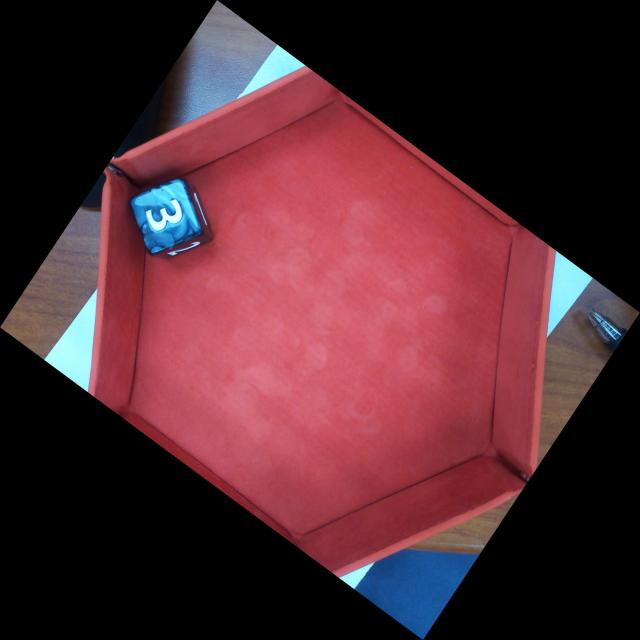dice: (126, 177, 206, 257)
